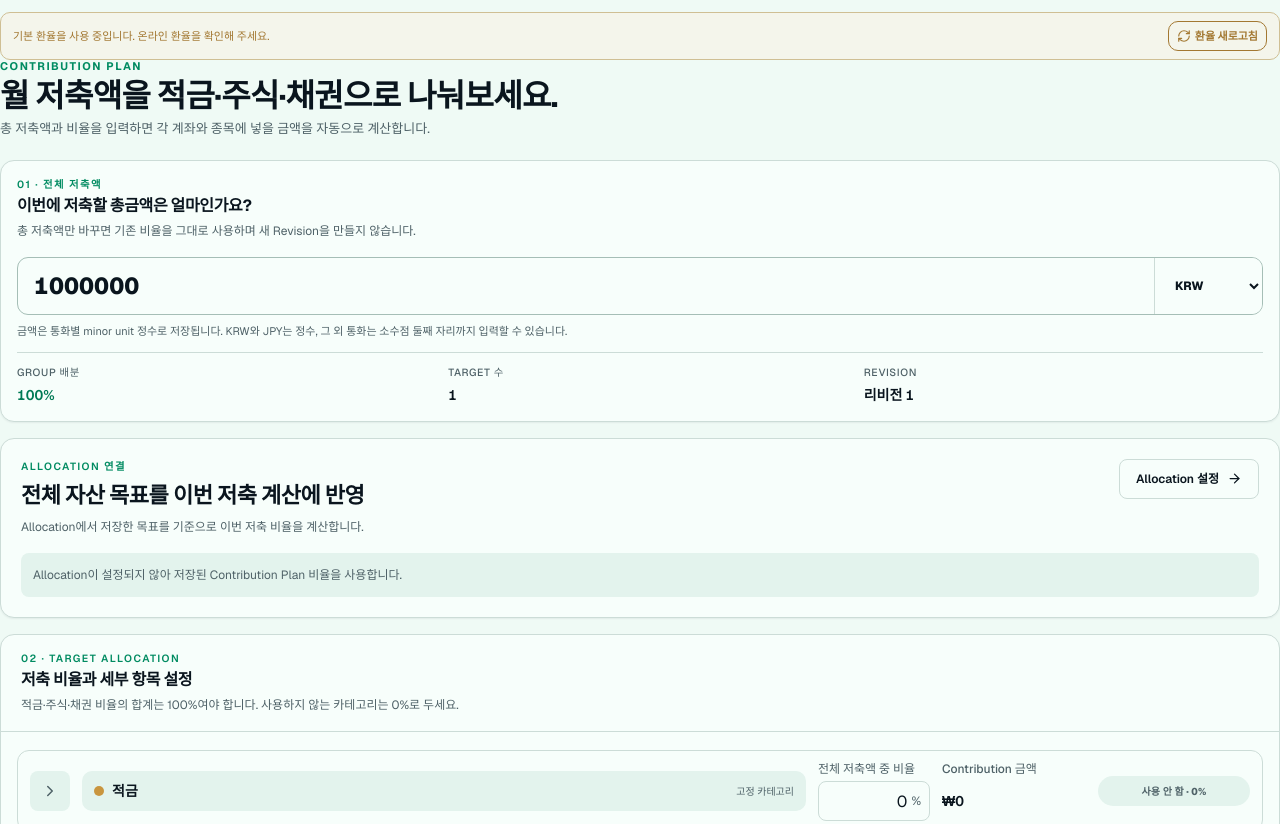
Test: Contribution Plan page › keeps the edited draft and committed stores unchanged when saving fails
Replace the text in the field named "전체 저축액" with "2000000" at (586, 286), box [18,258,1154,314]
(page scrolled)
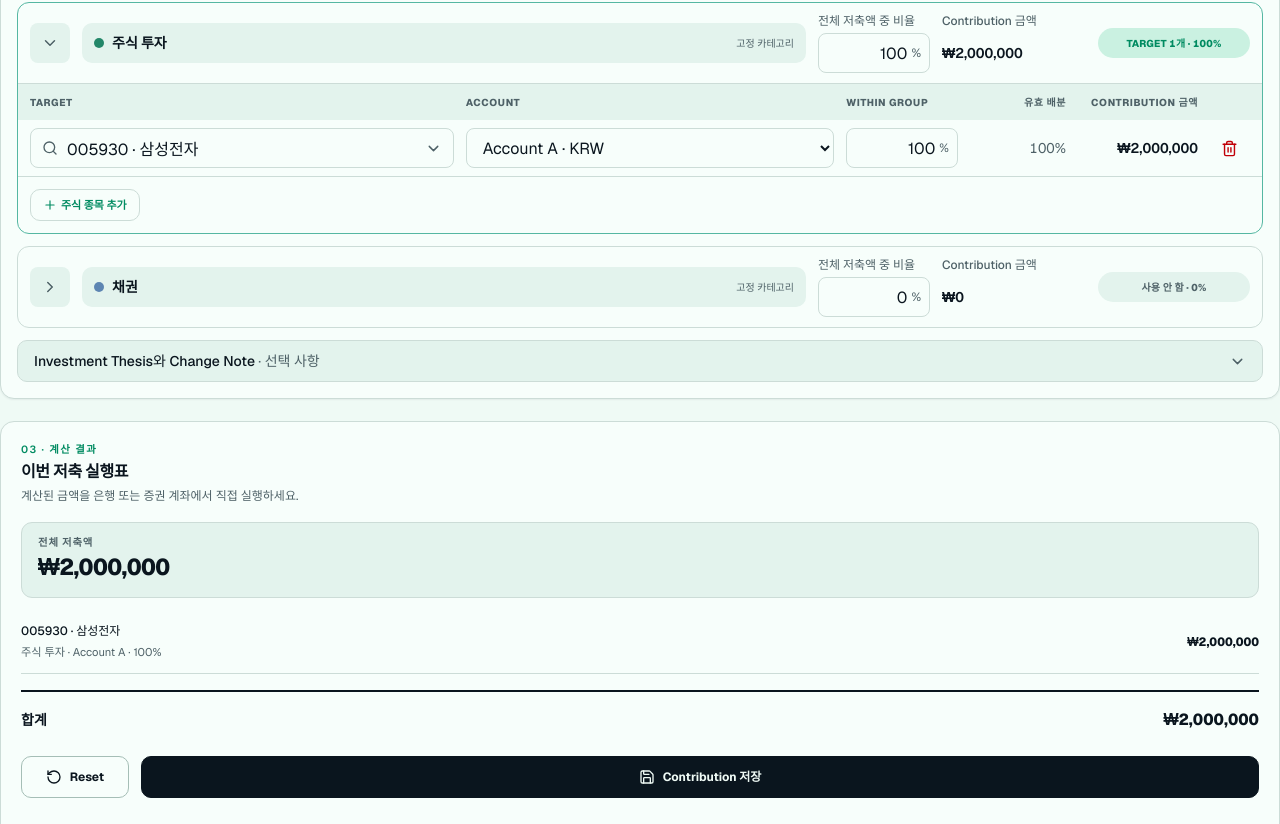
Click the button "Contribution 저장" at (700, 777), box [141,756,1259,798]
(page scrolled)
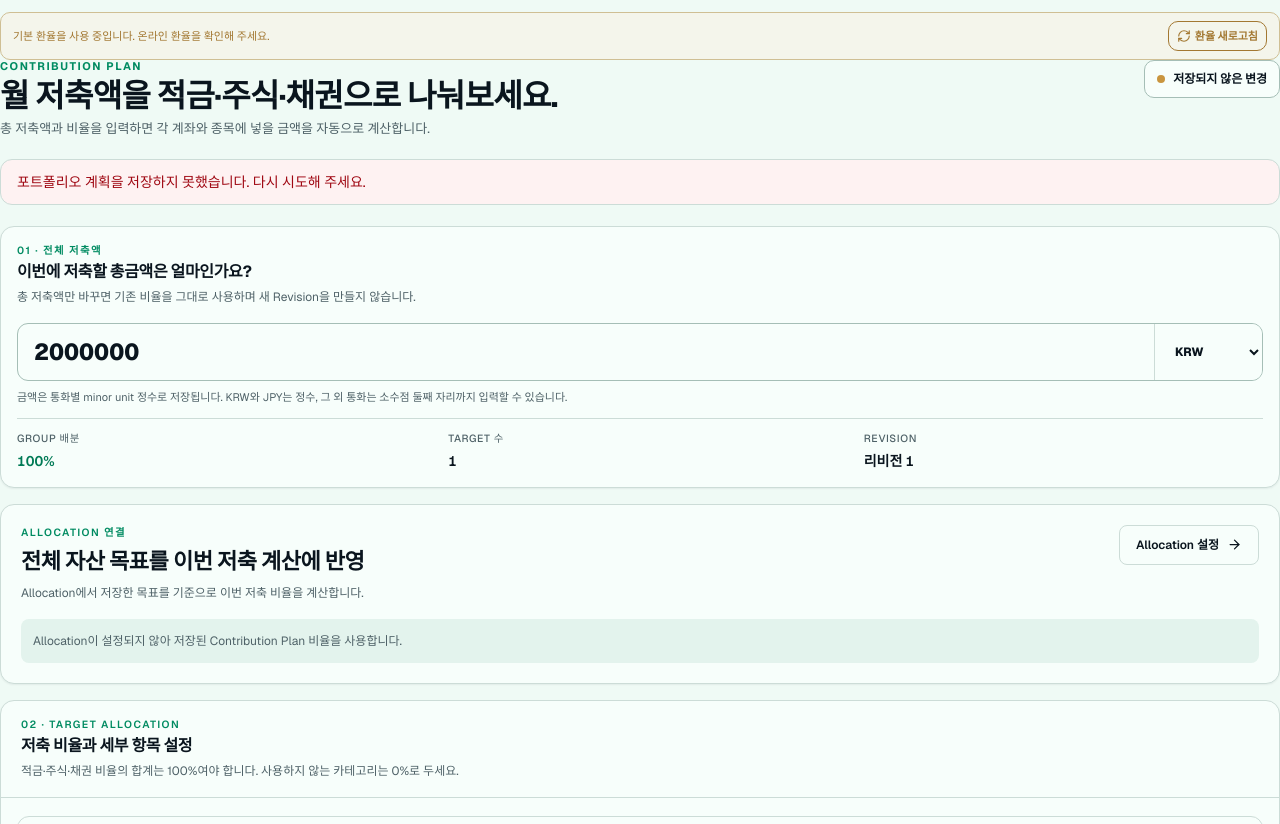
Expected: the message shows "포트폴리오 계획을 저장하지 못했습니다.", [17,173,366,191]
